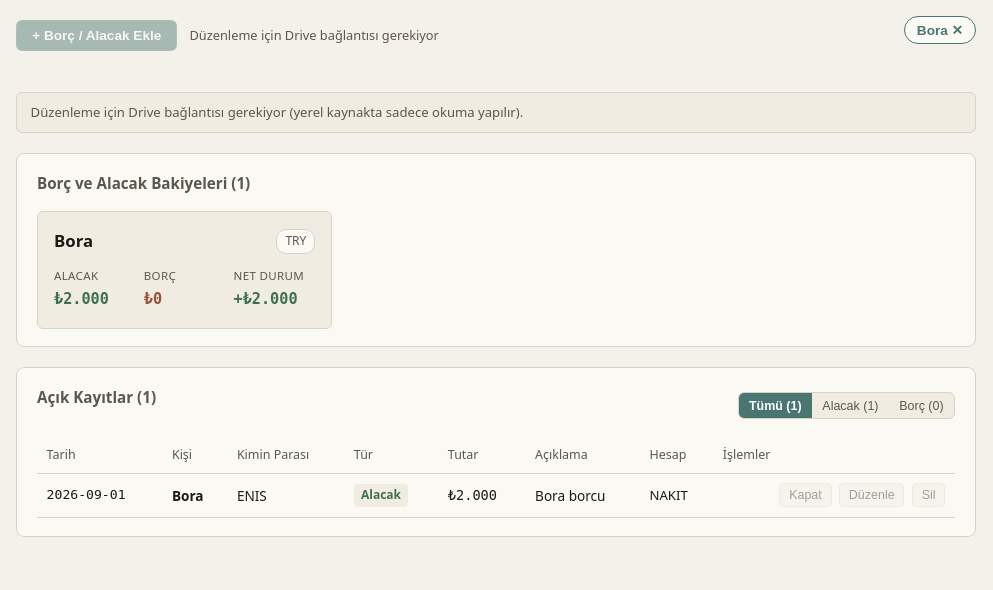
Test case: Borçlar sayfası › filtre rozetinden tüm kişilere dönülür
Click the button with test id "kisi-rozeti".
click(940, 30)  # box [904,16,976,44]
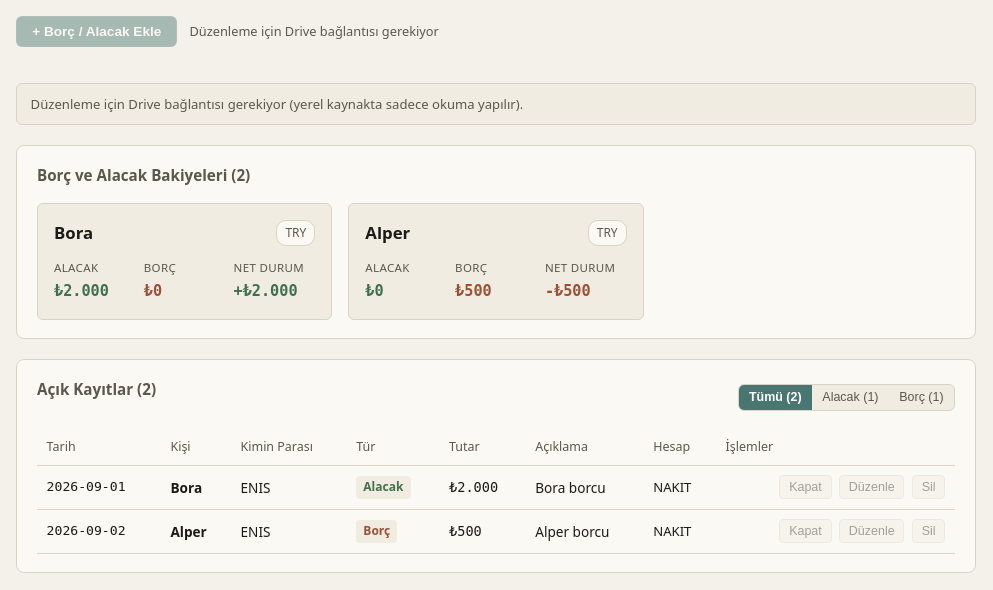
Now the text "Alper borcu" is shown, box [526,509,644,554]
